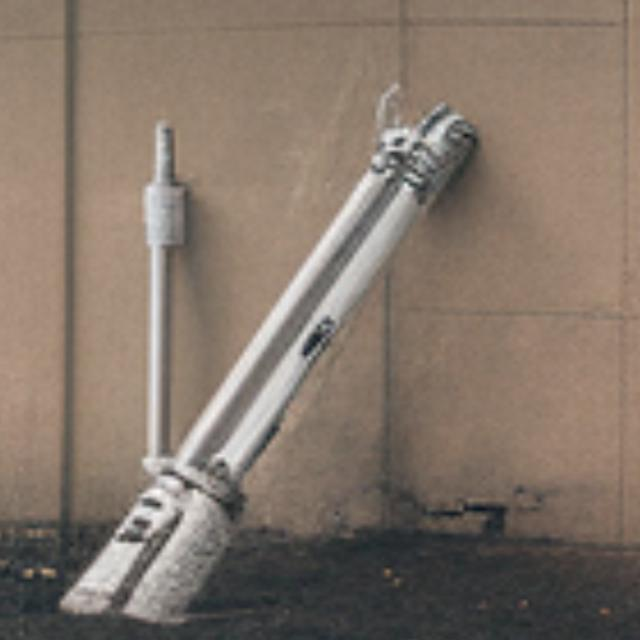Inclined Pole: (56, 83, 485, 627)
